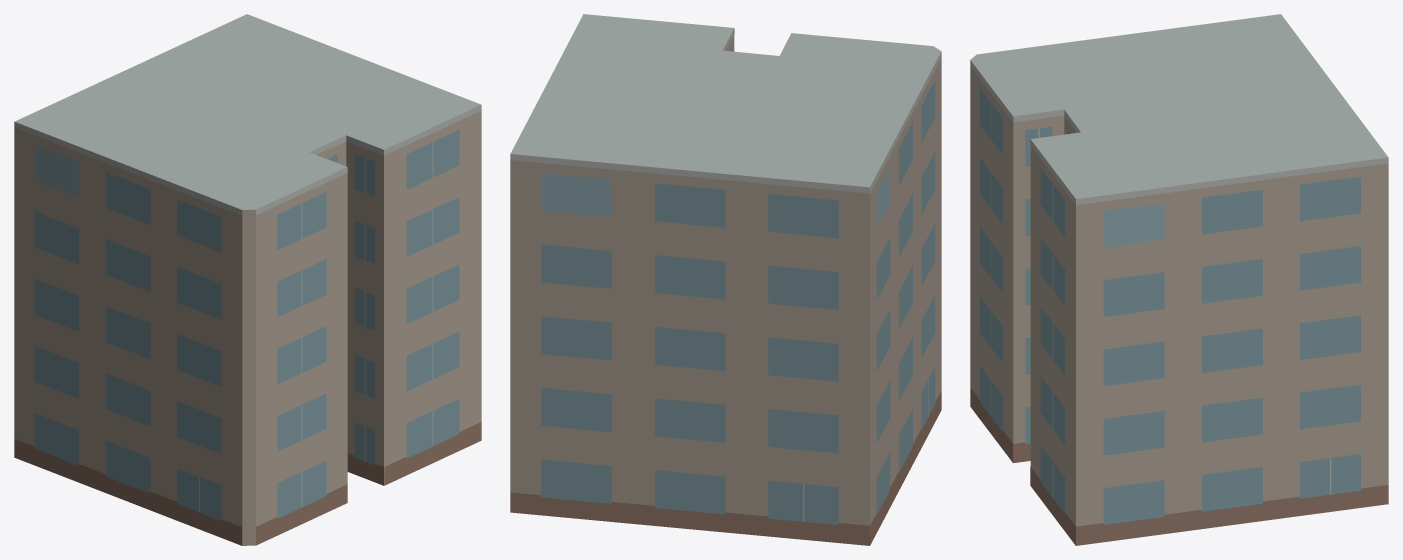
The model's file is survey-upis-32663817.glb.
3 renders of one model, left to right at view 1: azimuth 30°, elevation 25°; view 2: azimuth 150°, elevation 25°; view 3: azimuth 270°, elevation 25°, orthographic. The views are drawn at different scales.
Visible parts, largest first — view 1: survey-upis-32663817.tmp; view 2: survey-upis-32663817.tmp; view 3: survey-upis-32663817.tmp.
Part boxes in pixels (box(x1,y1,x2,y2)): survey-upis-32663817.tmp: box(14, 14, 481, 545); survey-upis-32663817.tmp: box(510, 14, 941, 545); survey-upis-32663817.tmp: box(970, 14, 1388, 545).
Size of the model in its own units: 16.28 by 14.2 by 15.54.
